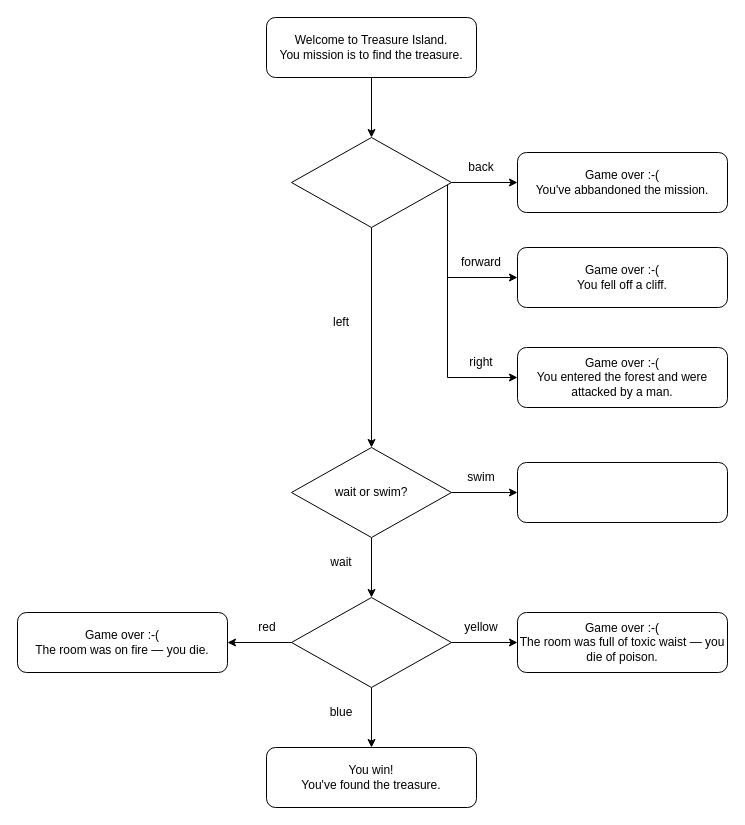
Image size: 745x825. Some labels were removed from this diagram. The centre of each missing label's shape, as x and y in pixels:
Game over :-( The lake was full of piranhas, and you became their dinner.: point 622,492
left or right, back or forward?: point 371,182
which door?: point 371,642
